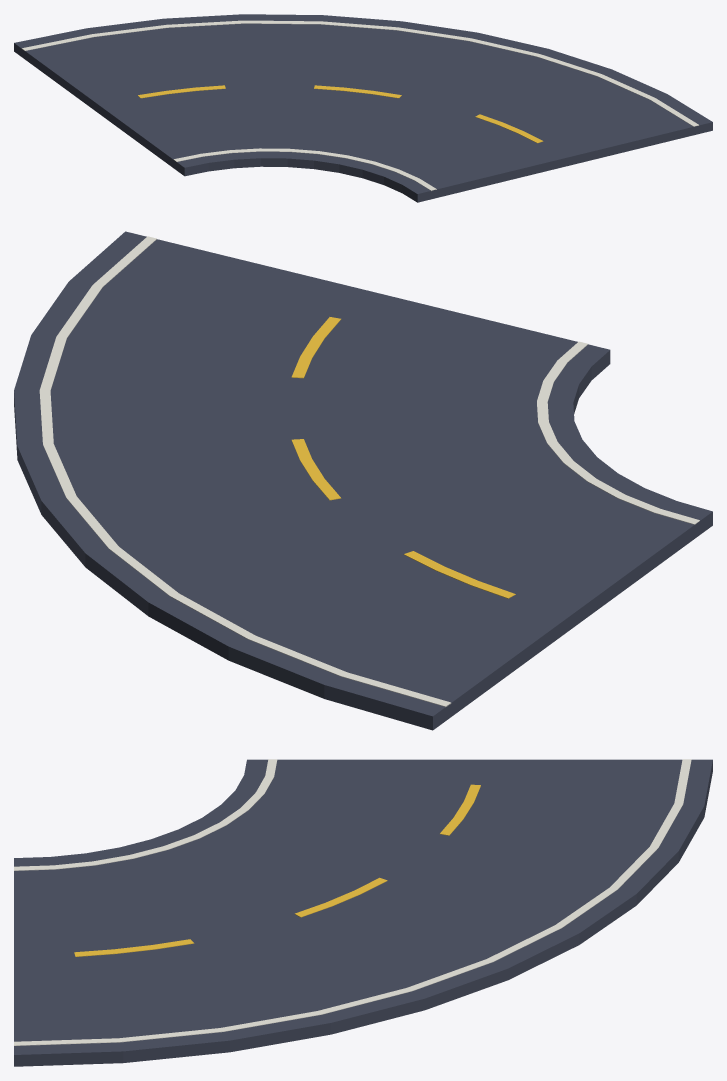
The model's file is RoadCurve.fbx.
3 views of the same model, one above another, from view 1: azimuth 30°, elevation 25°; view 2: azimuth 150°, elevation 25°; view 3: azimuth 270°, elevation 25° (orthographic). The views are drawn at different scales.
Parts seen in each view (by area): view 1: RoadCurve_Asphalt, RoadCurve_LineWhite, RoadCurve_LineYellow; view 2: RoadCurve_Asphalt, RoadCurve_LineWhite, RoadCurve_LineYellow; view 3: RoadCurve_Asphalt, RoadCurve_LineWhite, RoadCurve_LineYellow.
Boxes of the visible parts, x1,y1,x2,y2 form: RoadCurve_Asphalt: [14, 14, 712, 202]; RoadCurve_LineWhite: [21, 20, 698, 190]; RoadCurve_LineYellow: [138, 85, 543, 143]; RoadCurve_Asphalt: [14, 231, 712, 730]; RoadCurve_LineWhite: [39, 236, 699, 706]; RoadCurve_LineYellow: [291, 317, 515, 598]; RoadCurve_Asphalt: [14, 759, 712, 1066]; RoadCurve_LineWhite: [14, 759, 691, 1045]; RoadCurve_LineYellow: [74, 784, 480, 956].
Size of the model in its own units: 54 by 1.04 by 54.
